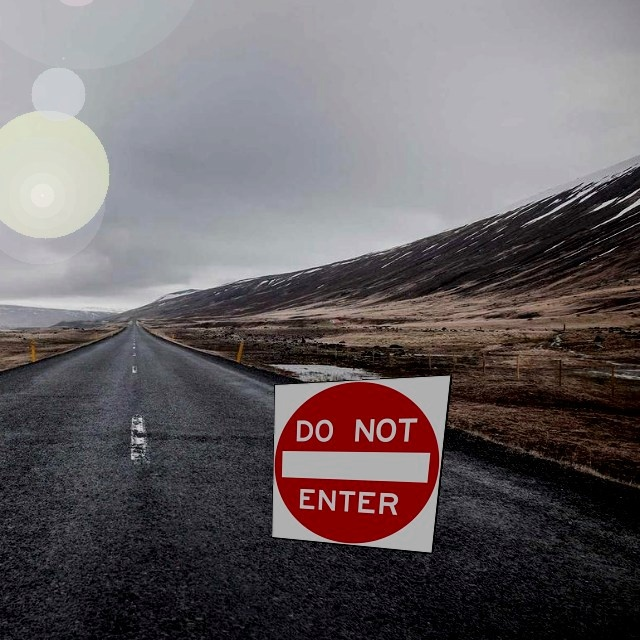DO_NOT_ENTER: (271, 374, 452, 554)
